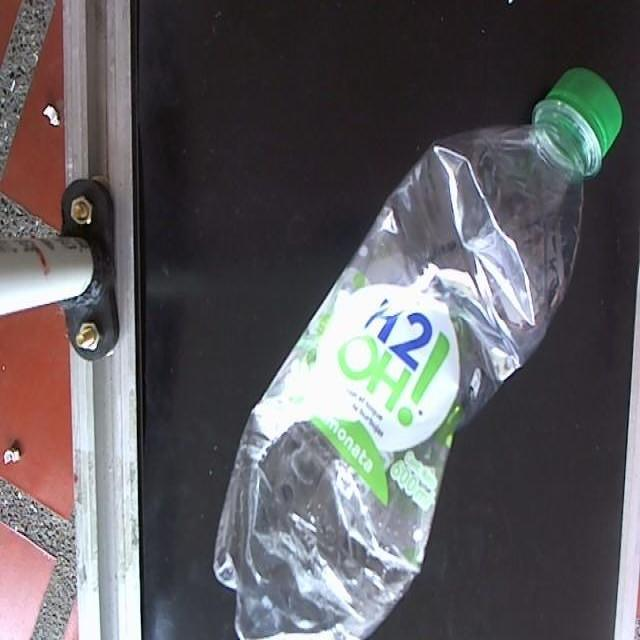defect: (208, 63, 626, 640)
